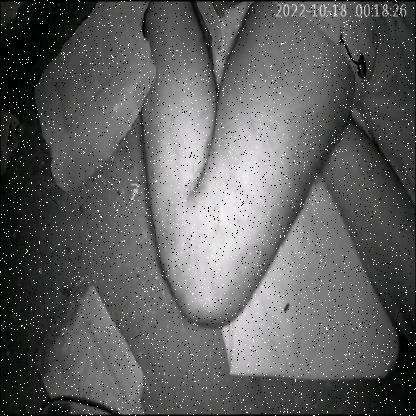leg: (129, 0, 364, 346)
